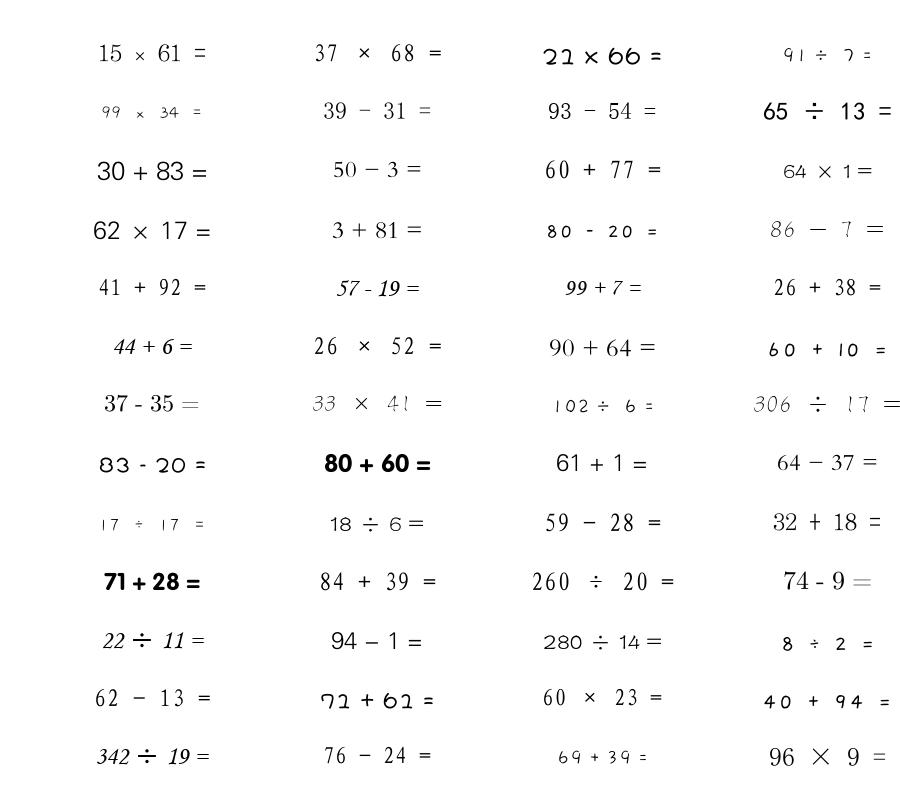MQ: (531, 572, 674, 591), (753, 396, 900, 413), (313, 44, 442, 62), (763, 102, 892, 120), (313, 337, 442, 355), (93, 221, 211, 240), (312, 395, 443, 412), (544, 160, 661, 179), (544, 513, 661, 532), (319, 572, 436, 591), (97, 161, 208, 181), (542, 47, 662, 65), (542, 688, 662, 706), (324, 453, 431, 473), (94, 689, 211, 707), (769, 748, 886, 766), (98, 44, 206, 62), (98, 278, 206, 296), (773, 278, 881, 296), (773, 513, 881, 531), (323, 746, 431, 764), (770, 221, 884, 238), (320, 692, 434, 709), (95, 748, 209, 765), (549, 339, 656, 357), (323, 102, 431, 119), (548, 102, 656, 119), (766, 342, 888, 357), (104, 572, 200, 591), (762, 695, 892, 709), (543, 635, 662, 650), (101, 632, 204, 649), (556, 453, 648, 472), (104, 394, 200, 412), (777, 454, 878, 471), (99, 457, 206, 473), (783, 571, 872, 590), (331, 632, 423, 650), (332, 222, 423, 239), (551, 399, 654, 414), (333, 161, 422, 178), (545, 225, 659, 238), (782, 47, 872, 63), (335, 280, 419, 297), (780, 636, 875, 651), (330, 517, 424, 532), (98, 519, 206, 532), (557, 750, 648, 765), (783, 164, 872, 179), (101, 106, 203, 119), (112, 338, 192, 354), (564, 280, 641, 295)
